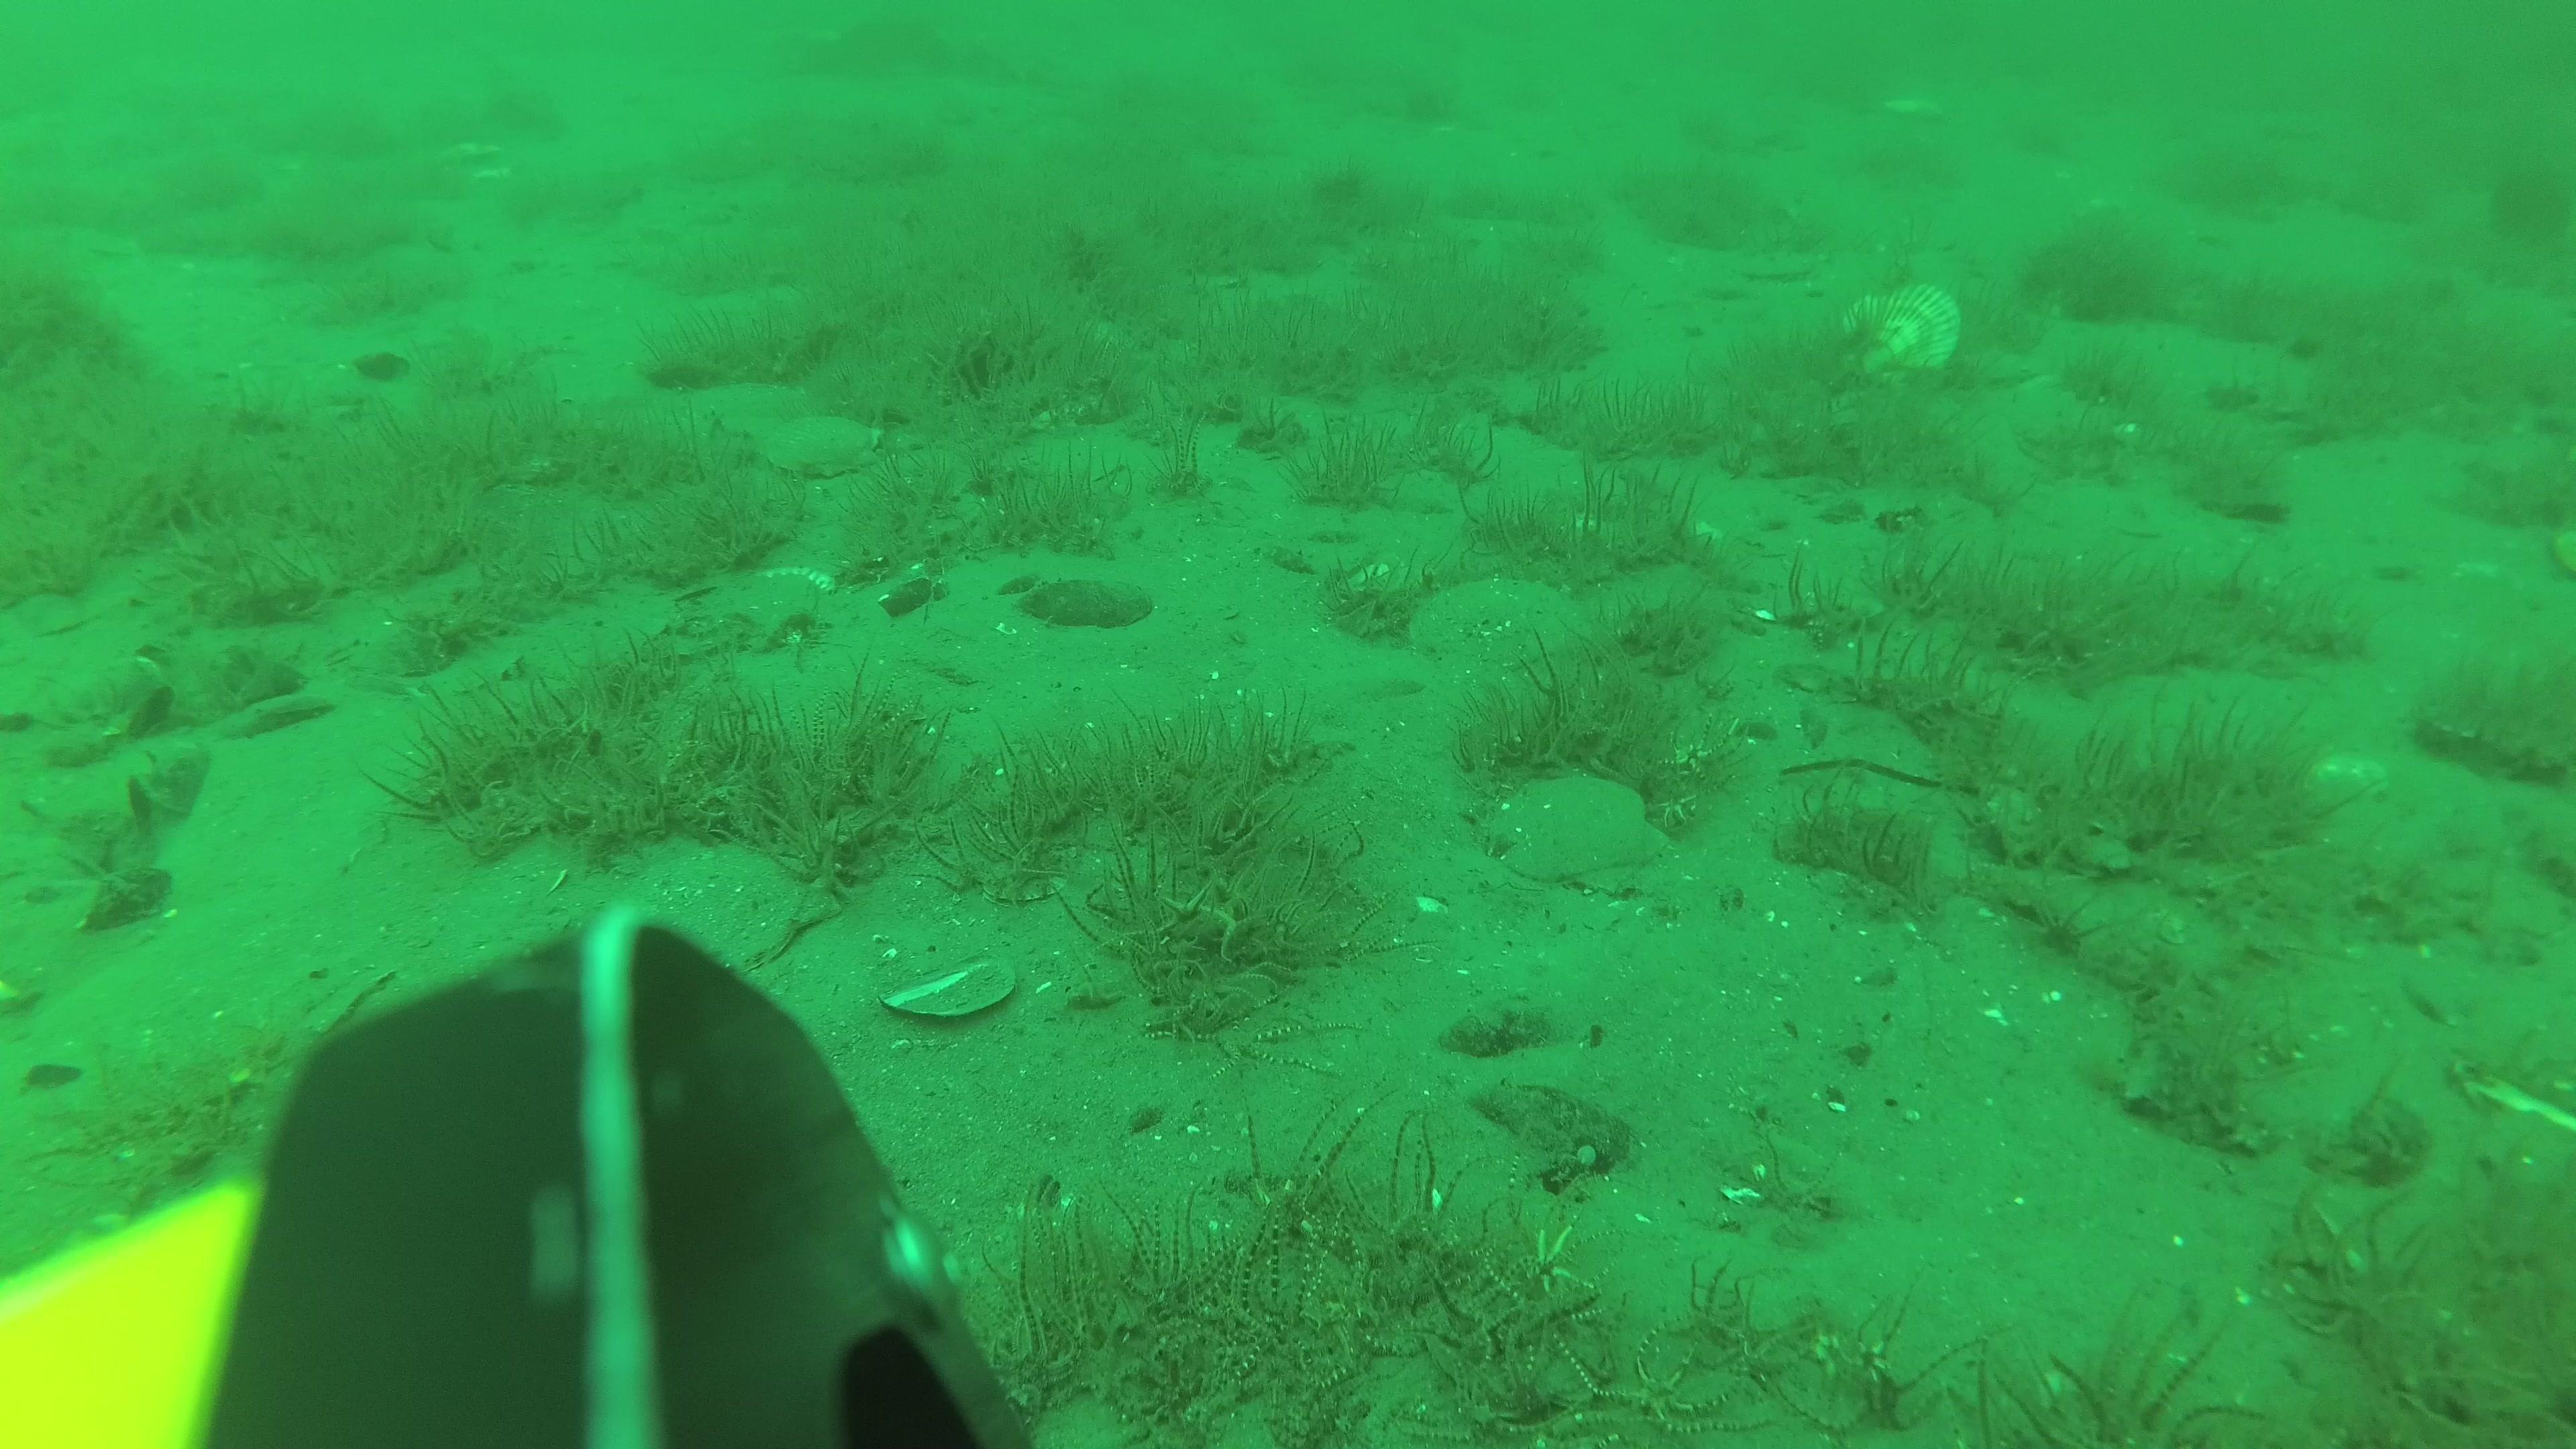scallop: (594, 837, 847, 982), (1484, 780, 1667, 879), (1840, 288, 1955, 377), (759, 414, 883, 479), (1888, 90, 1944, 119)
